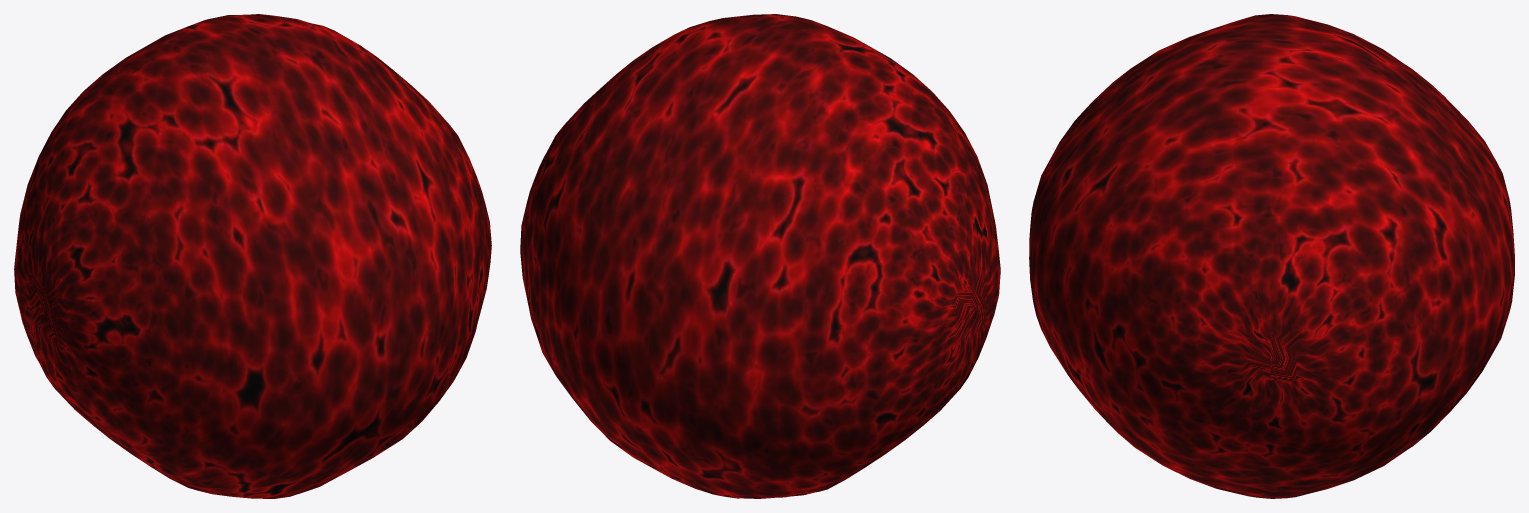
Rendered from vein_cell.fbx.
3 renders of one model, left to right at view 1: azimuth 30°, elevation 25°; view 2: azimuth 150°, elevation 25°; view 3: azimuth 270°, elevation 25°, orthographic.
Visible parts, largest first — view 1: cell_vein; view 2: cell_vein; view 3: cell_vein.
Part boxes in pixels (bbox=[...]): cell_vein: bbox=[14, 14, 491, 498]; cell_vein: bbox=[520, 14, 1000, 498]; cell_vein: bbox=[1029, 14, 1514, 498].
Size of the model in its own units: 179 by 179 by 179.
